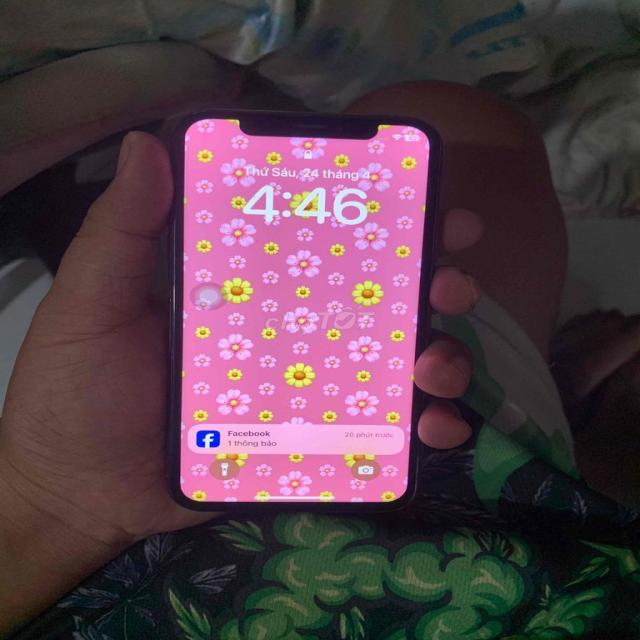scratch: (164, 293, 186, 316), (181, 107, 214, 121)
